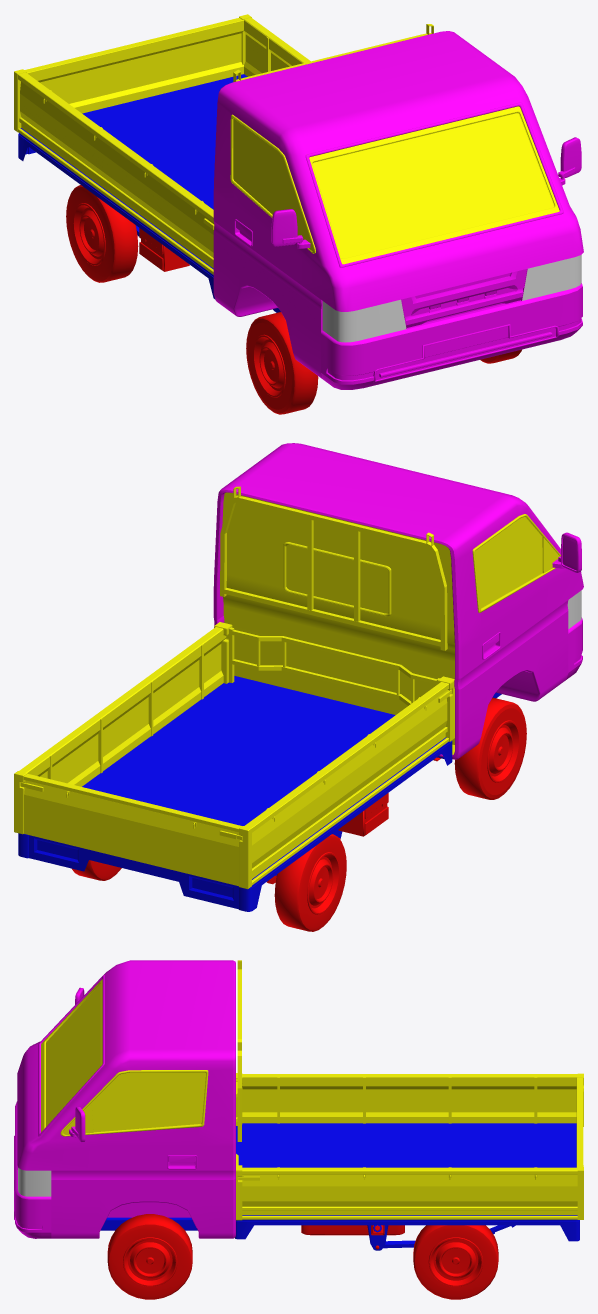
The model's file is toto_lowpoly01.fbx.
The picture shows the model from 3 angles, top to bottom: view 1: azimuth 30°, elevation 25°; view 2: azimuth 150°, elevation 25°; view 3: azimuth 270°, elevation 25°; orthographic projection. The views are drawn at different scales.
Visible parts, largest first — view 1: Cube_low, Cube.042_low, Cube.002_low, Cube.024_low, Cube.030_low, Cube.029_low, Cube.048_low, Cube.031_low, Cylinder.021_low, Cylinder.001_low, Cube.037_low, Cube.041_low (+13 smaller); view 2: Cube_low, Cube.040_low, Cube.029_low, Cube.002_low, Cube.024_low, Cube.026_low, Cube.048_low, Cube.047_low, Cylinder.021_low, Cylinder.001_low, Cube.044_low, Cube.043_low (+10 smaller); view 3: Cube_low, Cube.002_low, Cube.029_low, Cube.048_low, Cube.042_low, Cylinder.024_low, Cylinder.004_low, Cube.026_low, Cylinder.022_low, Cylinder.002_low, Cube.030_low, Cube.041_low (+7 smaller).
Boxes of the visible parts, x1,y1,x2,y2 form: Cube_low: (213, 31, 583, 379); Cube.042_low: (309, 106, 559, 264); Cube.002_low: (18, 17, 310, 274); Cube.024_low: (24, 17, 243, 113); Cube.030_low: (321, 283, 582, 389); Cube.029_low: (20, 74, 247, 269); Cube.048_low: (230, 114, 315, 253); Cube.031_low: (322, 255, 581, 342); Cylinder.021_low: (66, 185, 138, 282); Cylinder.001_low: (246, 312, 318, 414); Cube.037_low: (373, 324, 558, 382); Cube.041_low: (305, 102, 563, 267); Cube_low: (213, 443, 583, 759); Cube.040_low: (222, 492, 454, 754); Cube.029_low: (82, 676, 446, 879); Cube.002_low: (19, 627, 448, 885); Cube.024_low: (23, 773, 241, 886); Cube.026_low: (18, 741, 452, 911); Cube.048_low: (472, 514, 560, 612); Cube.047_low: (283, 542, 391, 616); Cylinder.021_low: (274, 834, 346, 931); Cylinder.001_low: (454, 697, 526, 799); Cube.044_low: (220, 486, 447, 650); Cube.043_low: (224, 588, 440, 646); Cube_low: (17, 960, 235, 1238); Cube.002_low: (237, 1074, 577, 1219); Cube.029_low: (236, 1123, 577, 1215); Cube.048_low: (60, 1070, 208, 1136); Cube.042_low: (41, 979, 102, 1132); Cylinder.024_low: (107, 1214, 192, 1299); Cylinder.004_low: (413, 1225, 498, 1299); Cube.026_low: (235, 1219, 579, 1241); Cylinder.022_low: (428, 1237, 483, 1286); Cylinder.002_low: (123, 1237, 177, 1286); Cube.030_low: (15, 1101, 51, 1238); Cube.041_low: (38, 975, 104, 1136).
Size of the model in its own units: 623 by 571 by 1170.
